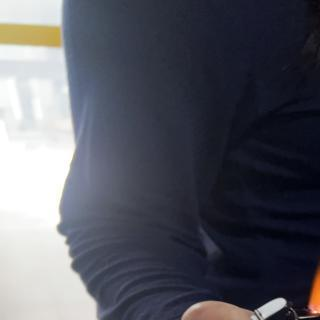fire: (306, 261, 320, 316)
